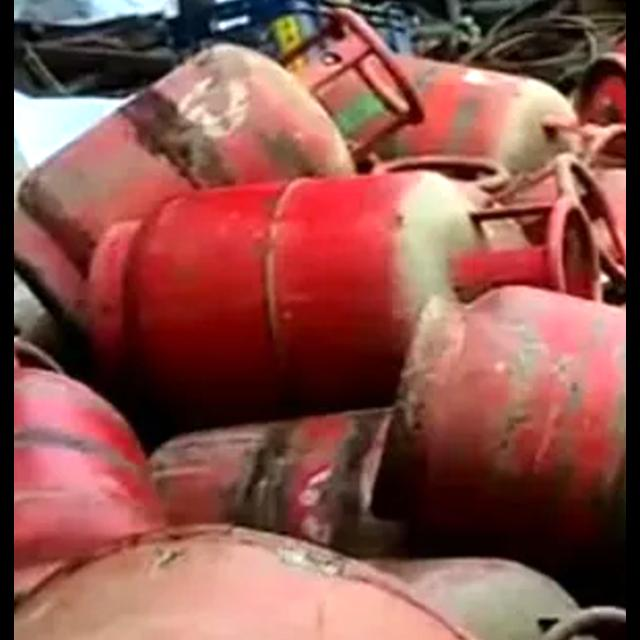Cylinders: (14, 8, 441, 324), (82, 168, 607, 371)
